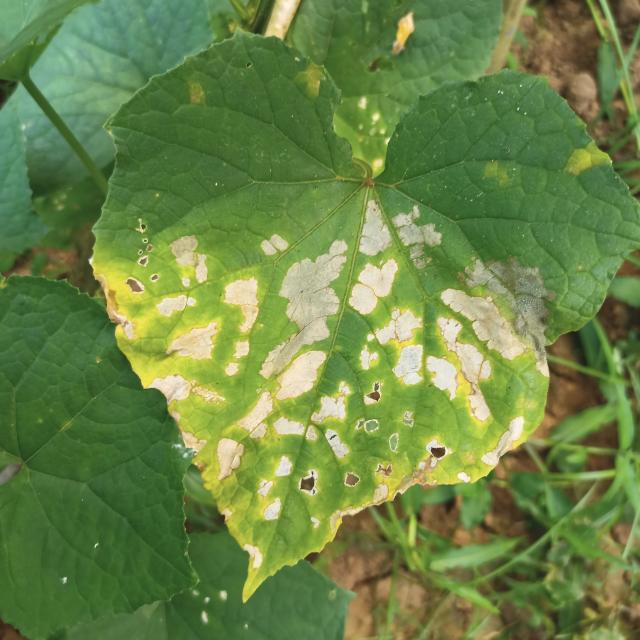disease_cucumber: (105, 204, 558, 526), (550, 139, 617, 183)
